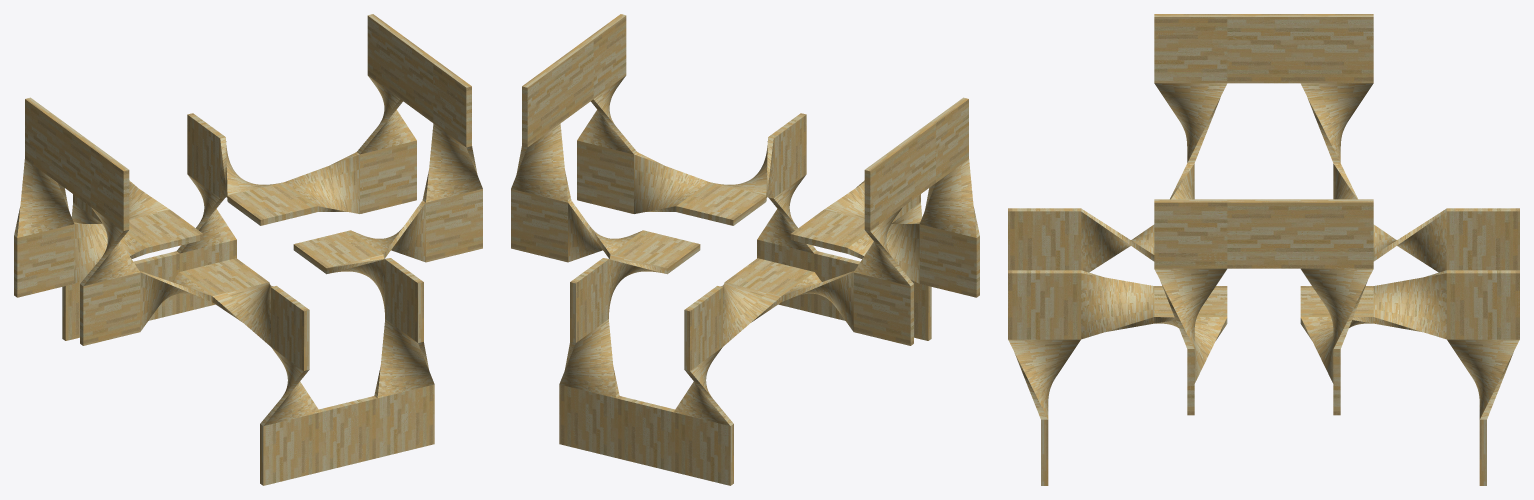
The model's file is Screw.dae.
3 views of the same model, side by side, from view 1: azimuth 30°, elevation 25°; view 2: azimuth 150°, elevation 25°; view 3: azimuth 270°, elevation 25° (orthographic). The views are drawn at different scales.
Parts seen in each view (by area): view 1: instance_31, instance_36, instance_9, instance_19, instance_22, instance_39, instance_10, instance_27, instance_18, instance_15, instance_25, instance_0 (+26 smaller); view 2: instance_11, instance_9, instance_36, instance_8, instance_26, instance_10, instance_39, instance_32, instance_30, instance_21, instance_33, instance_34 (+26 smaller); view 3: instance_2, instance_5, instance_13, instance_17, instance_37, instance_38, instance_0, instance_34, instance_3, instance_4, instance_6, instance_12 (+14 smaller).
Part boxes in pixels (x1,y1,x2,y2): instance_31: (260,412,320,485); instance_36: (14,224,74,297); instance_9: (80,272,140,345); instance_19: (319,396,377,471); instance_22: (377,384,434,457); instance_39: (360,140,416,213); instance_10: (426,189,482,262); instance_27: (374,319,434,398); instance_18: (422,123,482,202); instance_15: (14,159,74,237); instance_25: (285,152,359,213); instance_0: (90,146,129,230); instance_11: (673,412,733,485); instance_9: (919,224,979,297); instance_36: (853,272,913,345); instance_8: (616,396,674,471); instance_26: (559,384,616,457); instance_10: (577,140,633,213); instance_39: (511,189,567,262); instance_32: (559,319,619,398); instance_30: (511,123,571,202); instance_21: (919,159,979,237); instance_33: (634,152,708,213); instance_34: (864,146,903,230); instance_2: (1300,199,1373,268); instance_5: (1008,270,1081,339); instance_13: (1446,270,1519,339); instance_17: (1227,14,1300,83); instance_37: (1154,199,1227,268); instance_38: (1227,199,1300,268); instance_0: (1154,14,1227,83); instance_34: (1300,14,1373,83); instance_3: (1008,208,1081,270); instance_4: (1446,208,1519,270); instance_6: (1373,270,1446,339); instance_12: (1081,270,1154,339).
Size of the model in its own units: 276 by 276 by 197.
1 material, 1 textured.
